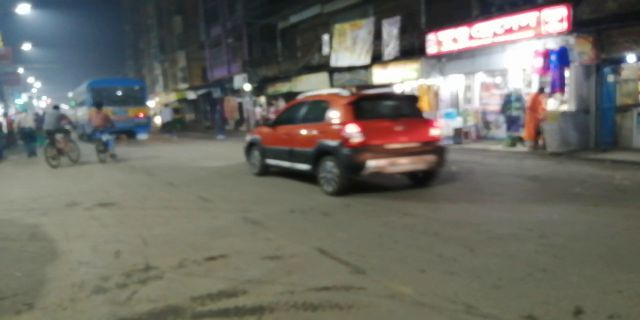Bus: (72, 79, 151, 142)
Car: (243, 87, 446, 195)
Cycle: (38, 104, 82, 171)
